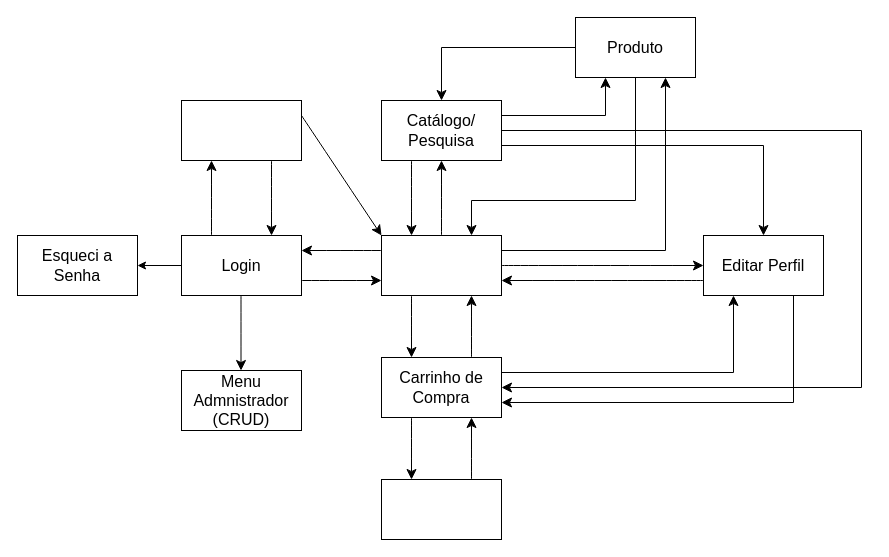
The diagram is 889 pixels wide and 557 high, and some of its shapes have lost their labels. The shapes that lost their labels are listed below. From the top down, each one's centre as x and y in pixels, then its label:
At point (241, 130): "Registro".
At point (441, 265): "Home".
At point (441, 509): "Finalizar Compra".
